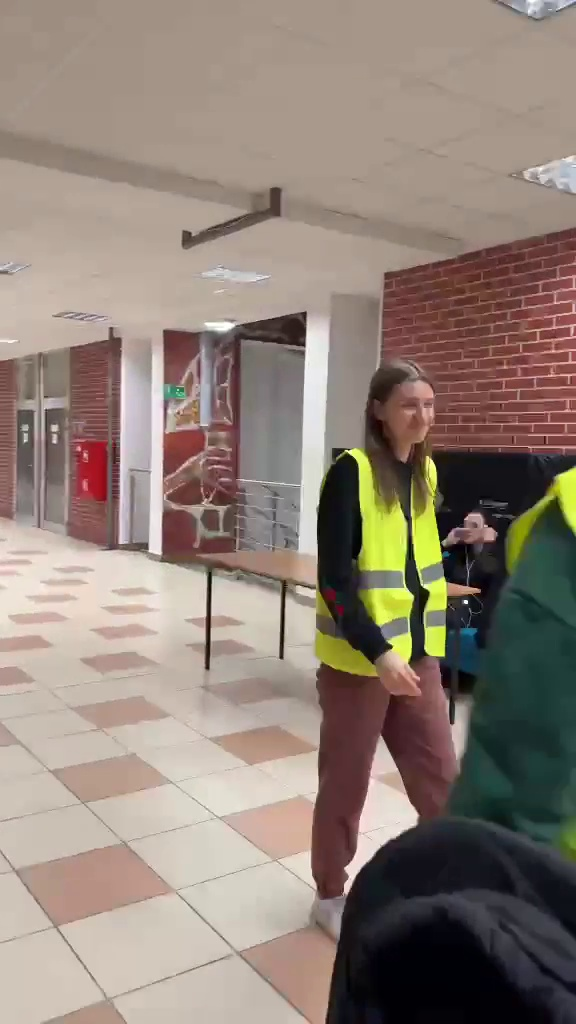no vest: (444, 509, 515, 622)
vest: (318, 359, 458, 857)
